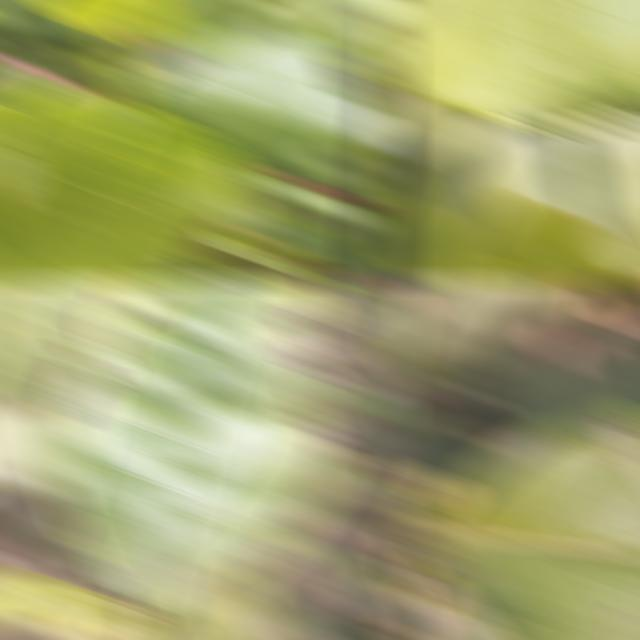Leaf: (40, 277, 347, 618), (414, 400, 640, 640), (0, 86, 252, 285), (127, 20, 353, 189), (379, 0, 640, 131), (418, 120, 596, 271), (2, 277, 149, 426), (393, 277, 565, 383), (442, 195, 640, 285), (567, 115, 640, 283), (379, 70, 494, 162), (379, 147, 446, 285), (0, 566, 131, 627), (0, 277, 43, 409), (208, 258, 354, 285), (161, 0, 269, 23)
